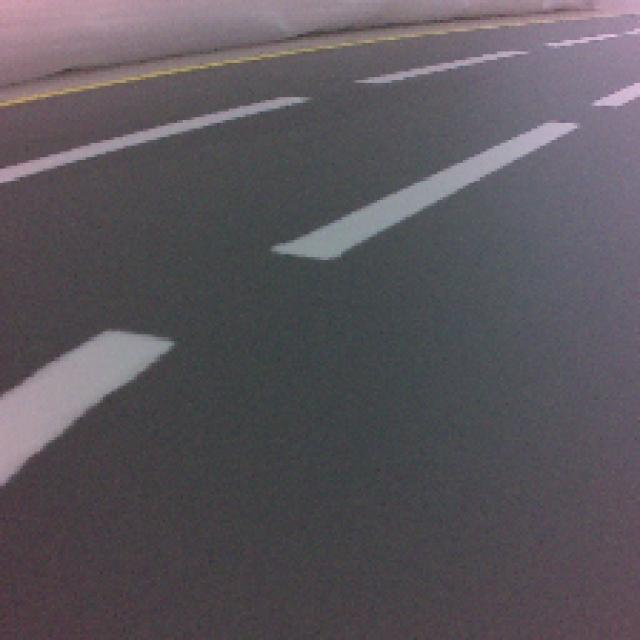Guard rail: (0, 329, 167, 487)
